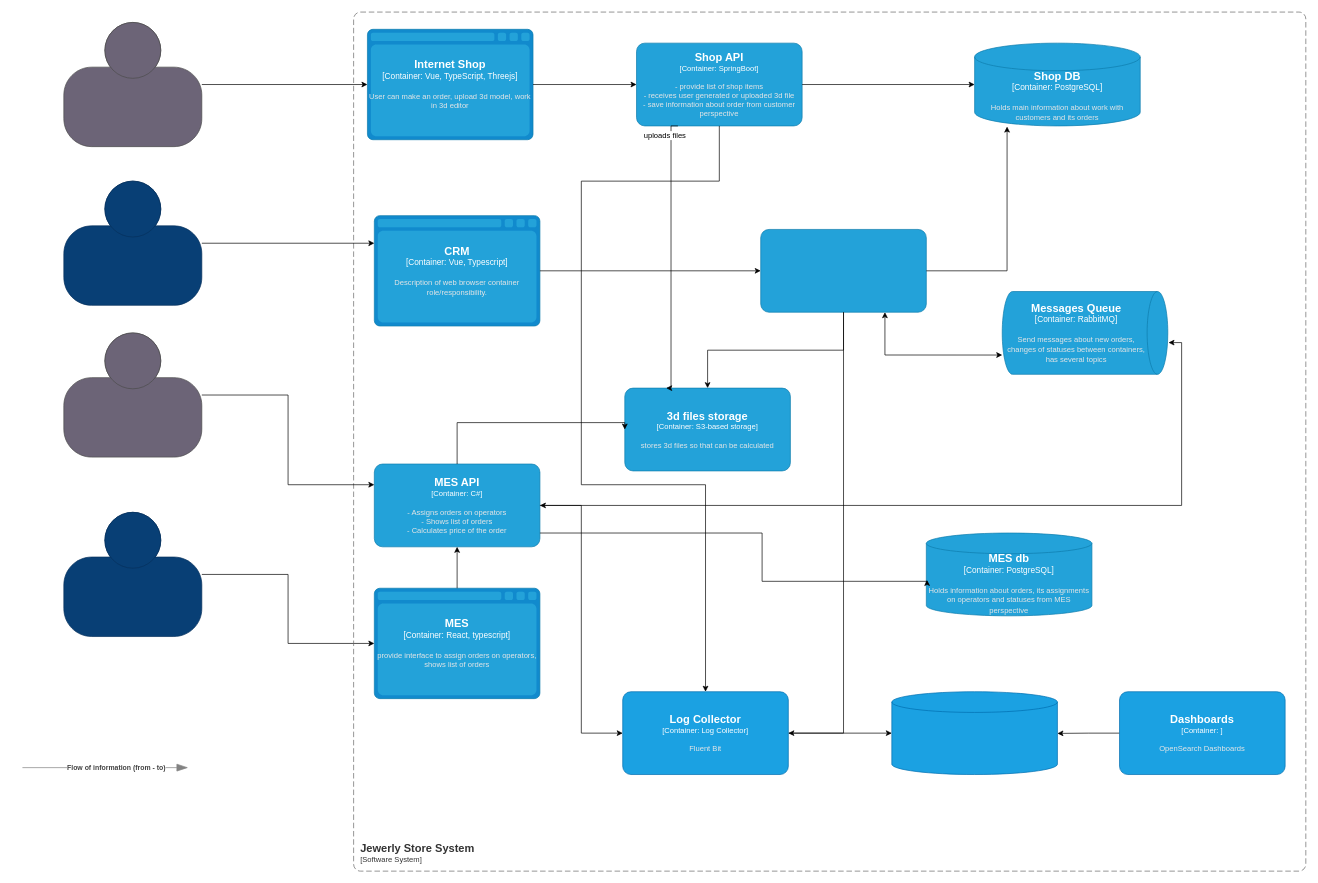
The diagram is 1318 pixels wide and 883 high, and some of its shapes have lost their labels. The centre of each missing label's shape, as x and y in pixels:
API user [Person] Description of external person.: the point at 132,394
CRM API [Container: SpringBoot] Description of container role/responsibility.: the point at 843,270
Customer [Person] Description of external person.: the point at 132,84
Log Storage [Container: OpenSearch] Log Storage: the point at 974,733
Operator [Person] Takes order in work, manufactures jewerly: the point at 132,574
Seller [Person] Operates with order, confirms manufacturing for the user: the point at 132,242
